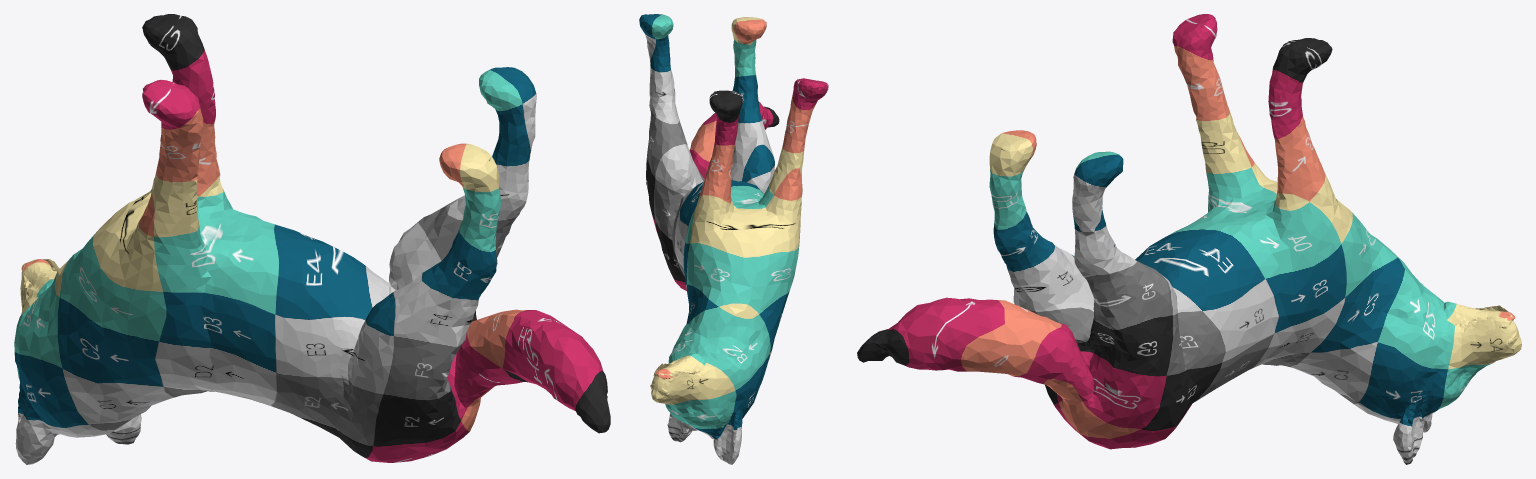
The model's file is horse_01-dog_01.obj.
The picture shows the model from 3 angles, left to right: view 1: azimuth 30°, elevation 25°; view 2: azimuth 150°, elevation 25°; view 3: azimuth 270°, elevation 25°; orthographic projection. The views are drawn at different scales.
Parts seen in each view (by area): view 1: horse_01-dog_01_export; view 2: horse_01-dog_01_export; view 3: horse_01-dog_01_export.
Part boxes in pixels (left/top/right/bottom): horse_01-dog_01_export: left=14, top=14, right=610, bottom=464; horse_01-dog_01_export: left=639, top=14, right=828, bottom=464; horse_01-dog_01_export: left=857, top=14, right=1521, bottom=464.
Bounding box in the file's own units: 0.5287 × 0.7141 × 1.03.
